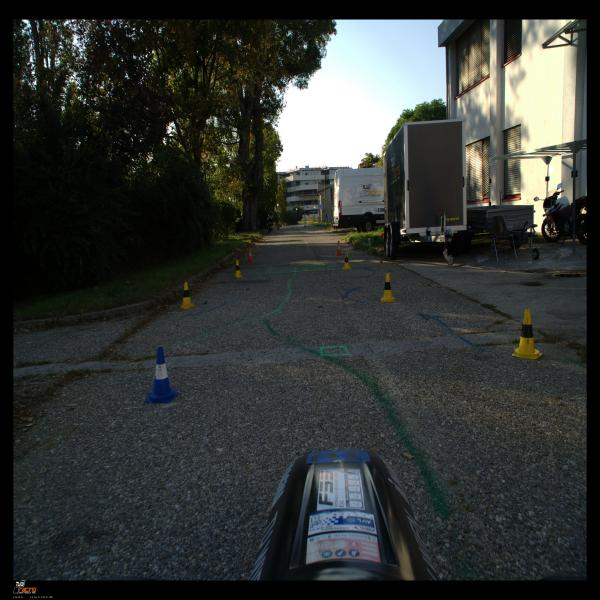blue_cone: (146, 347, 179, 402)
orange_cone: (335, 240, 343, 256), (246, 248, 255, 262)
yellow_cone: (512, 309, 542, 359), (178, 282, 196, 309), (380, 273, 396, 302), (232, 260, 244, 278), (342, 252, 352, 270)
